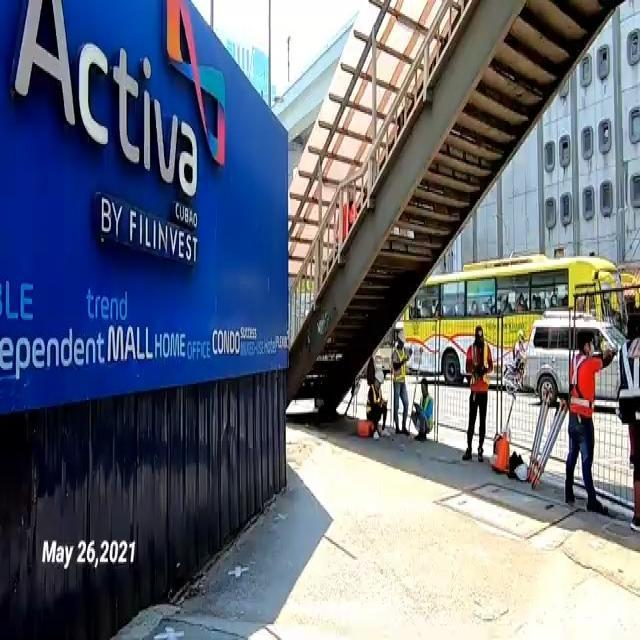bus: (402, 252, 628, 388)
car: (524, 311, 631, 408)
